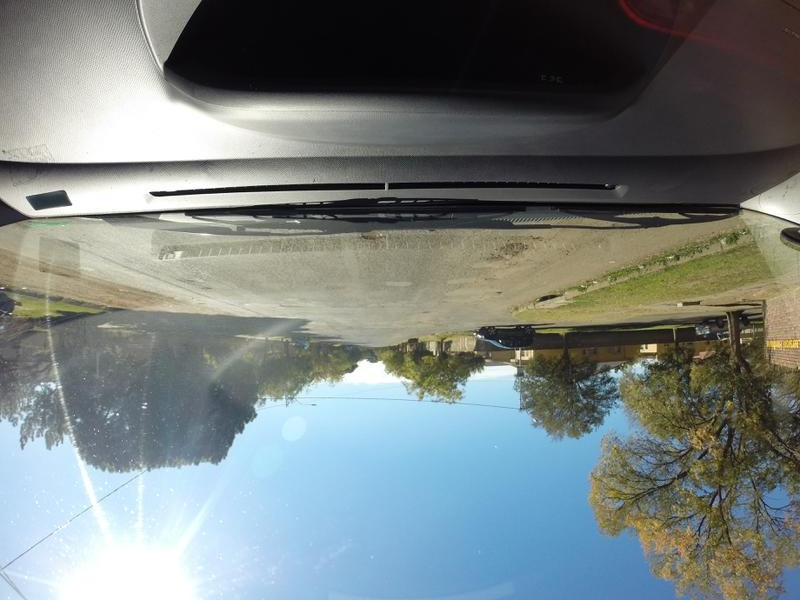pothole: (463, 229, 546, 264), (169, 274, 213, 296), (354, 229, 388, 255)
